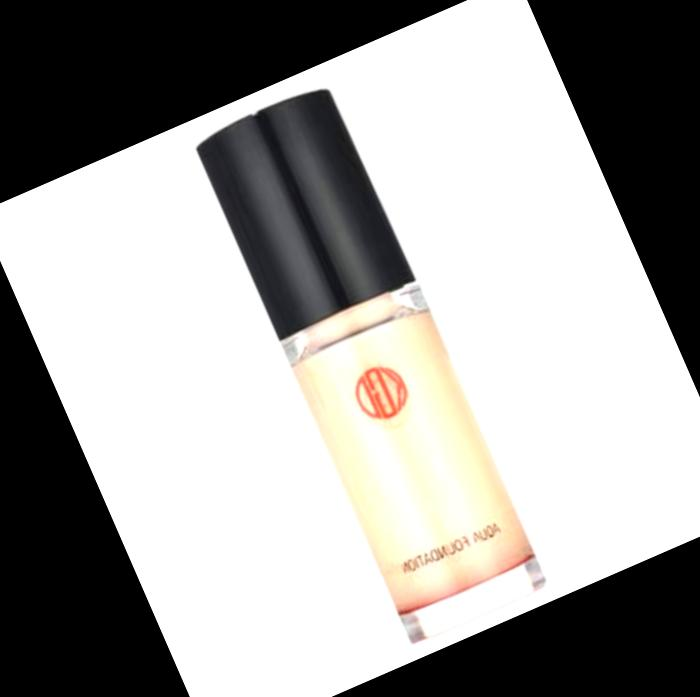cosmetic: (187, 79, 553, 651)
